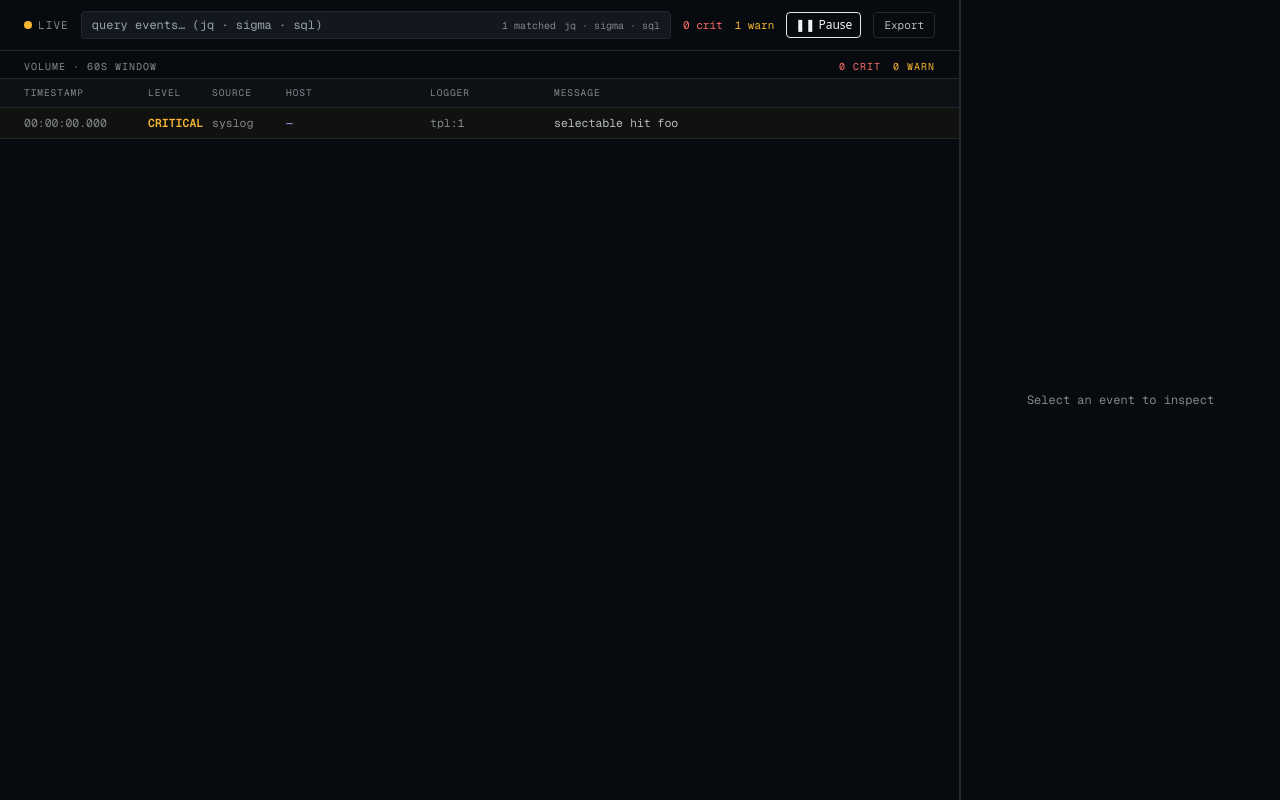
Test: EventsScreen › selects a matched row in the filtered results region
This screenshot has width=1280, height=800.
Expected: the text "1 matched" is shown, [502,18,556,32]
Type "foo" into the field with test id "event-query-field".
click(293, 25); type("foo")  # box [92,16,494,34]
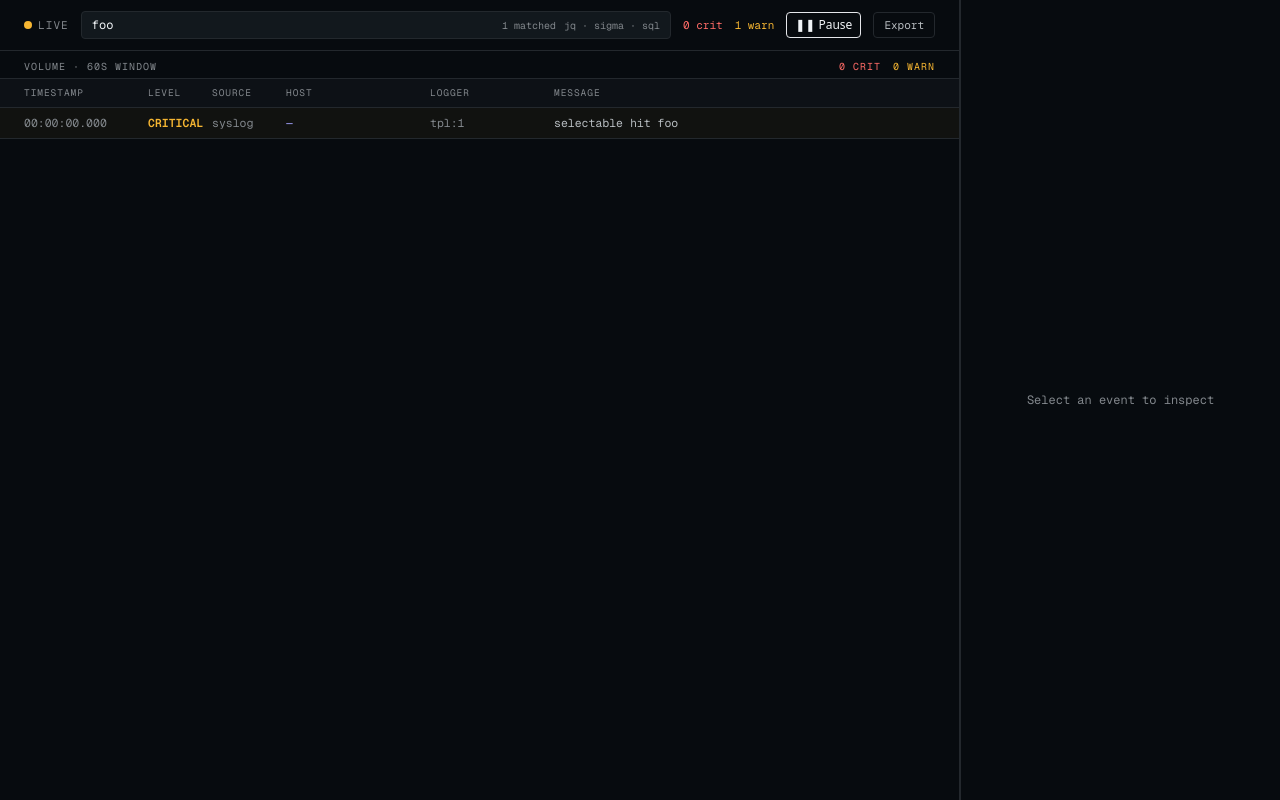
Click the button with aria-label "event row".
click(65, 123)  # box [0,108,959,139]
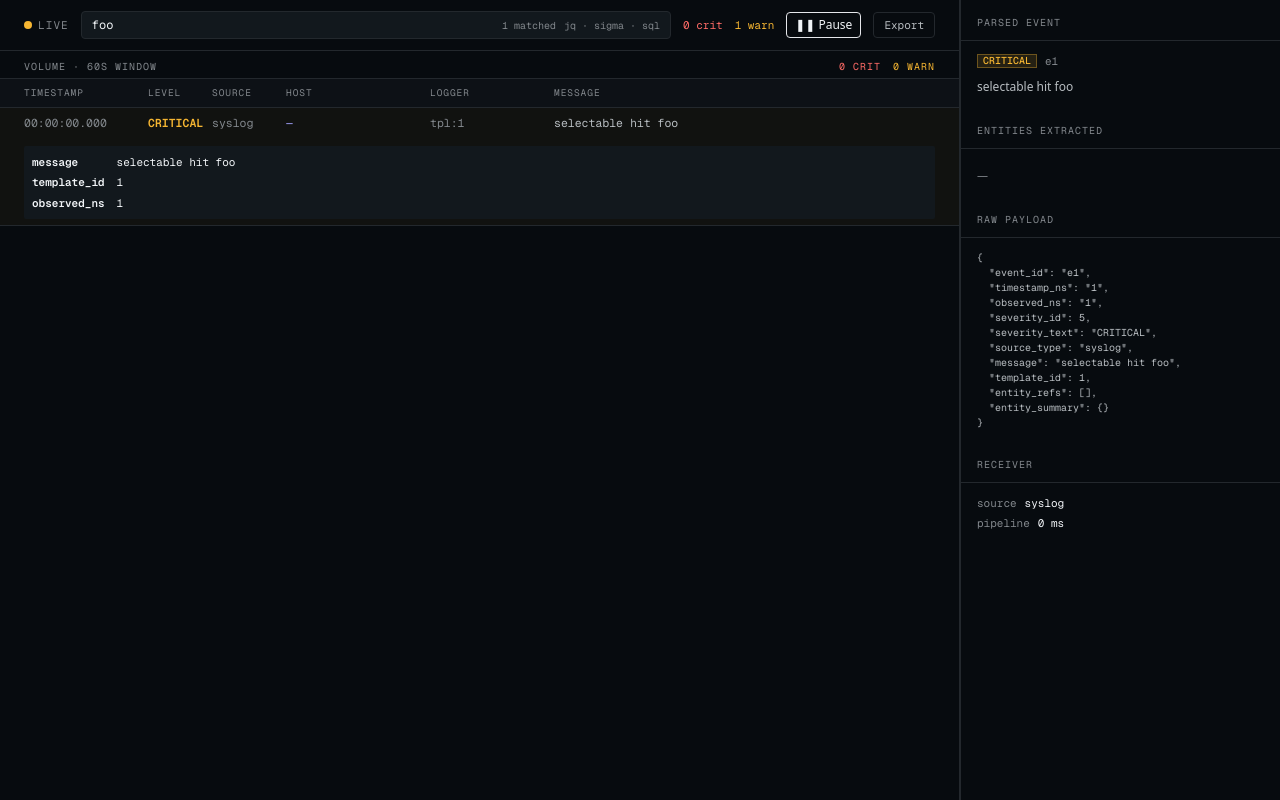
Expected: the text with test id "inspector-severity" reads "CRITICAL", [983,54,1031,67]
